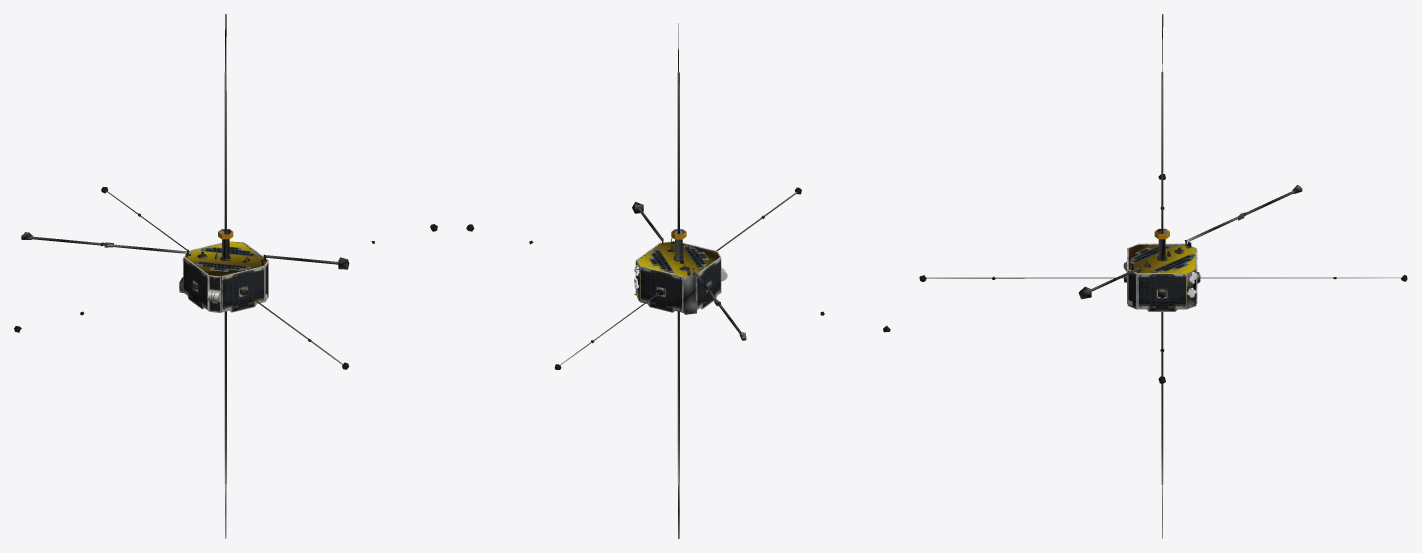
Rendered from themis.glb.
3 views of the same model, side by side, from view 1: azimuth 30°, elevation 25°; view 2: azimuth 150°, elevation 25°; view 3: azimuth 270°, elevation 25° (orthographic).
Parts seen in each view (by area): view 1: shiny_panel, foil_silver, foil_gold; view 2: shiny_panel, foil_silver, foil_gold; view 3: foil_silver, shiny_panel, foil_gold.
Part boxes in pixels (x1=…): shiny_panel: x1=183, y1=229, x2=268, y2=312; foil_silver: x1=14, y1=14, x2=437, y2=538; foil_gold: x1=182, y1=241, x2=267, y2=312; shiny_panel: x1=634, y1=229, x2=727, y2=312; foil_silver: x1=466, y1=23, x2=890, y2=538; foil_gold: x1=634, y1=242, x2=719, y2=312; foil_silver: x1=919, y1=14, x2=1407, y2=538; shiny_panel: x1=1123, y1=228, x2=1197, y2=311; foil_gold: x1=1128, y1=245, x2=1195, y2=309.
Bounding box in the file's own units: 6.07 × 7.21 × 6.08.
Materials: 3 (3 with a texture image).
